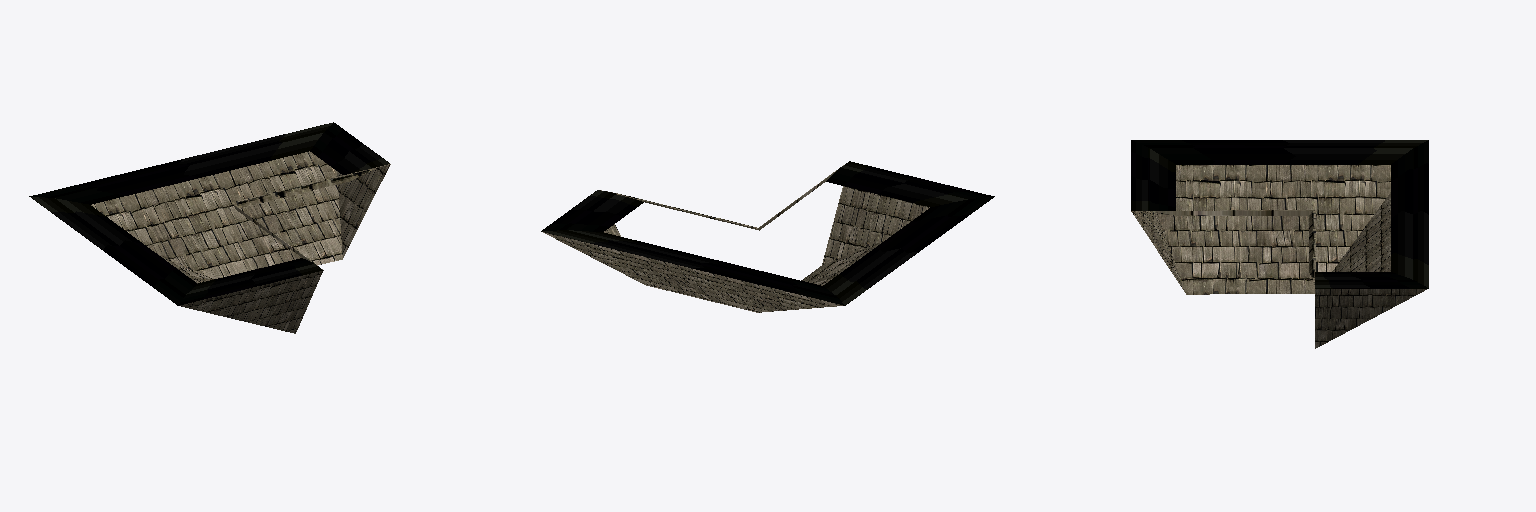
3 views of the same model, side by side, from view 1: azimuth 30°, elevation 25°; view 2: azimuth 150°, elevation 25°; view 3: azimuth 270°, elevation 25° (orthographic).
Size of the model in its own units: 18.88 by 4.96 by 15.99.
Materials: 1 (1 with a texture image).